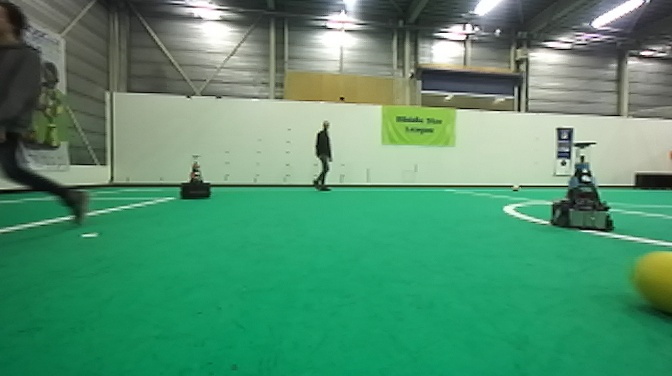ball: (630, 244, 672, 322), (510, 182, 522, 194)
human: (1, 1, 90, 228), (310, 120, 335, 193)
robot: (549, 139, 616, 232), (177, 153, 215, 201)
